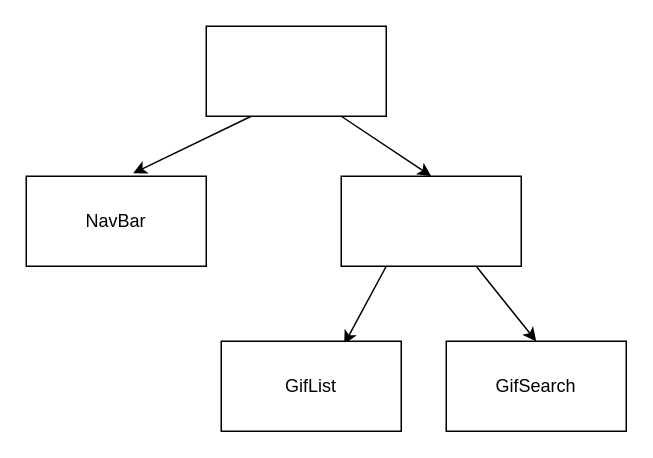
Some shapes in this 653 by 458 pixel diagram are drawn without their labels. The shapes that lost their labels are listed below. From the top down, each one's box as (x1, y1, x2, y2) in pixels, then its label:
(205, 25, 386, 116): App
(340, 175, 521, 266): GifListContainer
